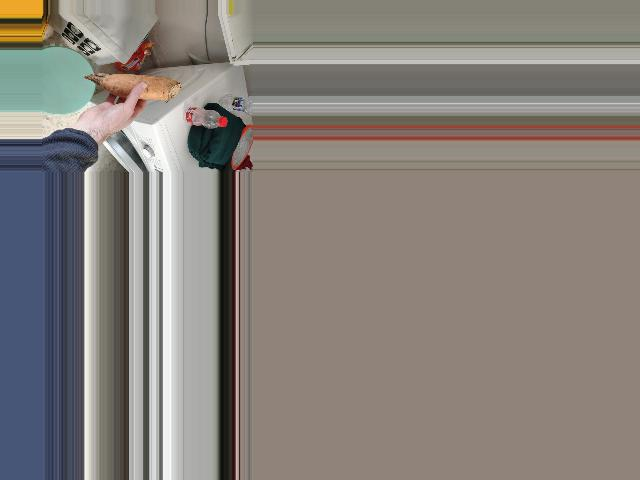sweet_potato: (90, 77, 185, 103)
